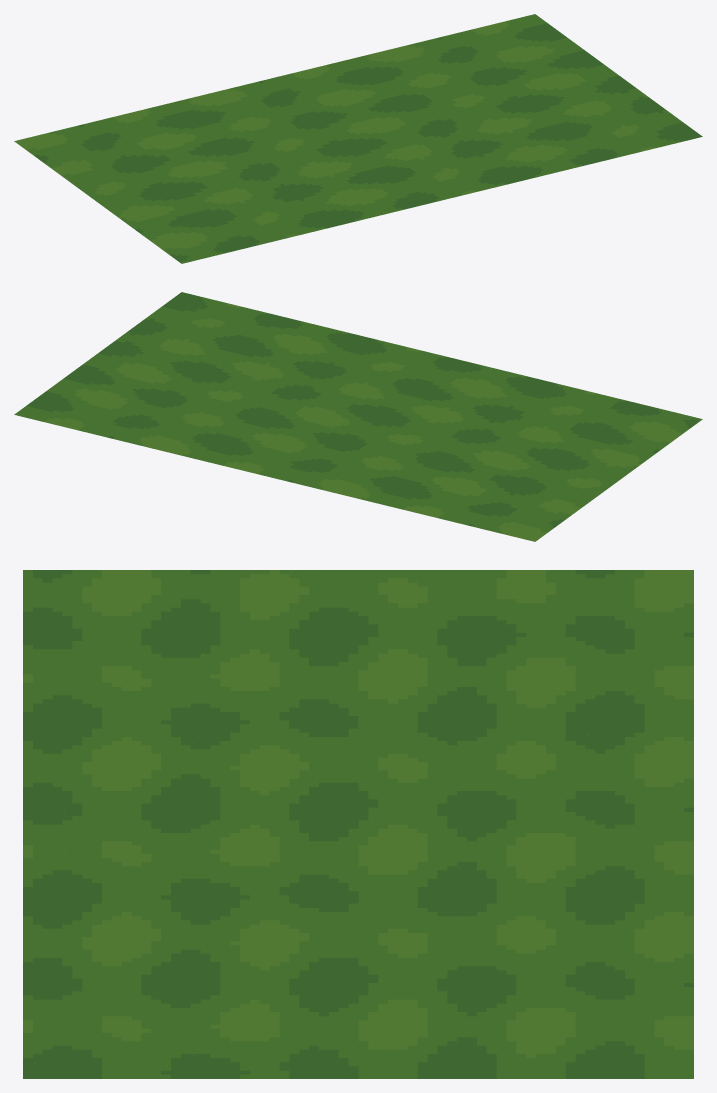
Rendered from SM_Pixel_Ground.fbx.
The picture shows the model from 3 angles, top to bottom: view 1: azimuth 30°, elevation 25°; view 2: azimuth 150°, elevation 25°; view 3: azimuth 270°, elevation 25°; orthographic projection. The views are drawn at different scales.
Parts seen in each view (by area): view 1: SM_Pixel_Ground; view 2: SM_Pixel_Ground; view 3: SM_Pixel_Ground.
Boxes of the visible parts, x1,y1,x2,y2 form: SM_Pixel_Ground: [14, 14, 702, 263]; SM_Pixel_Ground: [14, 292, 702, 541]; SM_Pixel_Ground: [23, 570, 693, 1078].
Size of the model in its own units: 6100 by 3400 by 0.2.
1 material, 1 textured.
